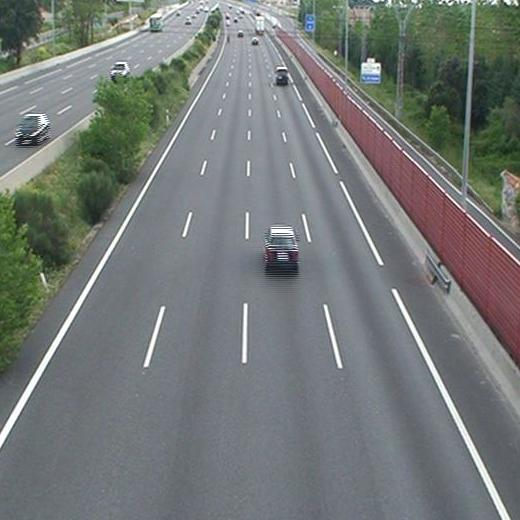car: (265, 228, 297, 265)
van: (276, 66, 288, 85)
